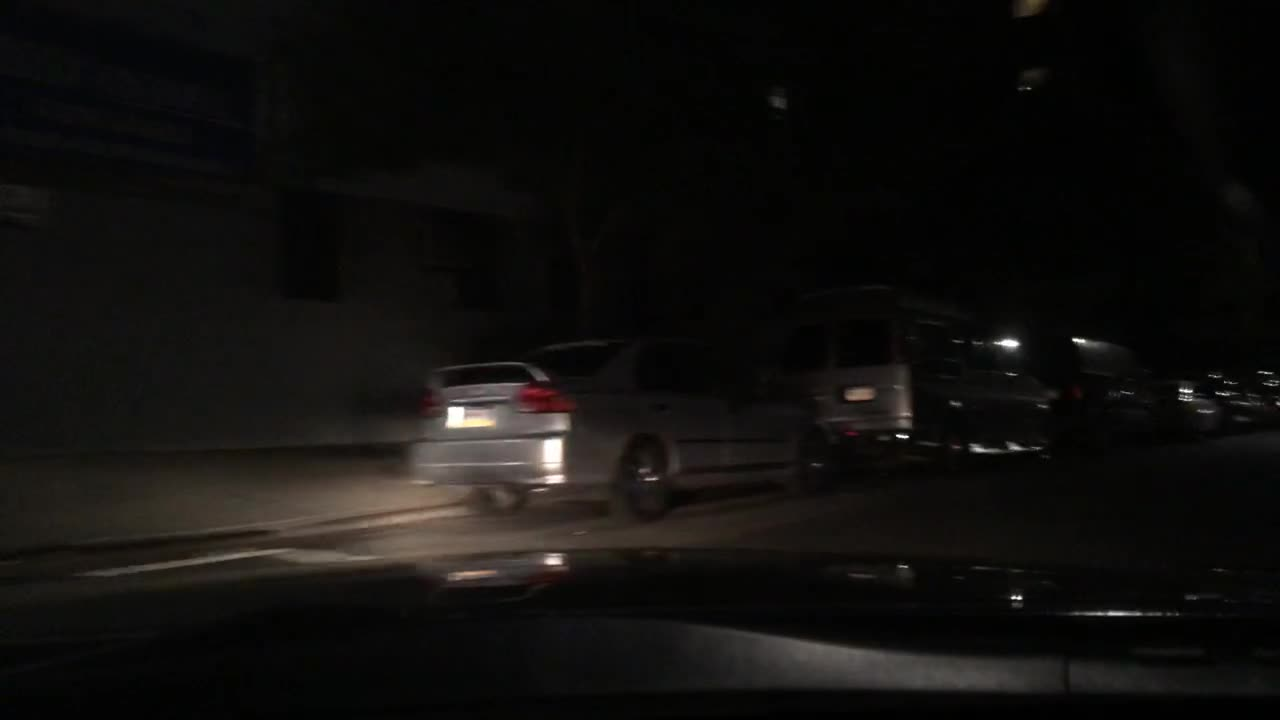car: (402, 319, 838, 526), (784, 283, 1059, 463), (1061, 333, 1157, 452), (1160, 376, 1228, 437), (1213, 366, 1267, 432), (1252, 365, 1279, 424)
